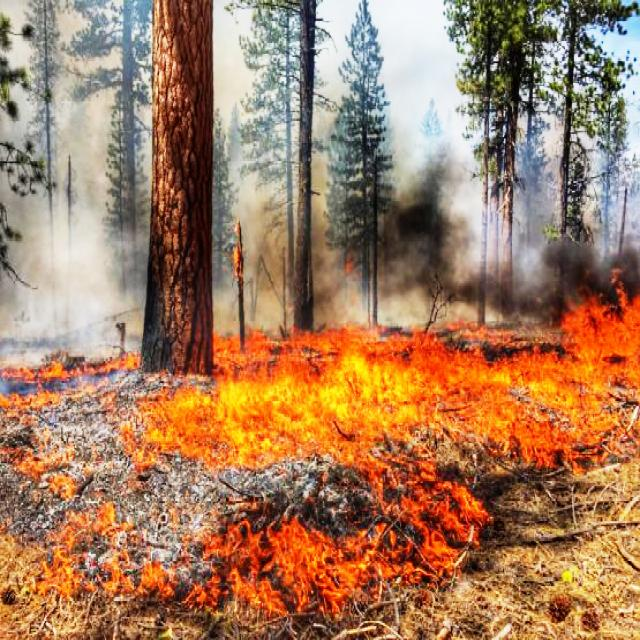api: (147, 333, 532, 459), (219, 507, 466, 601), (541, 295, 640, 449)
asap: (220, 176, 541, 328), (7, 8, 133, 339)
